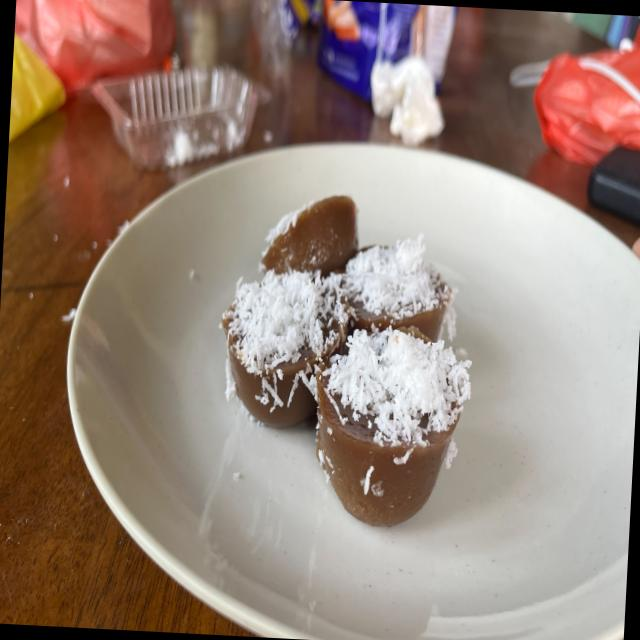Kuih lompang: (316, 326, 471, 526), (222, 271, 349, 427), (343, 234, 450, 342), (262, 196, 358, 276)
